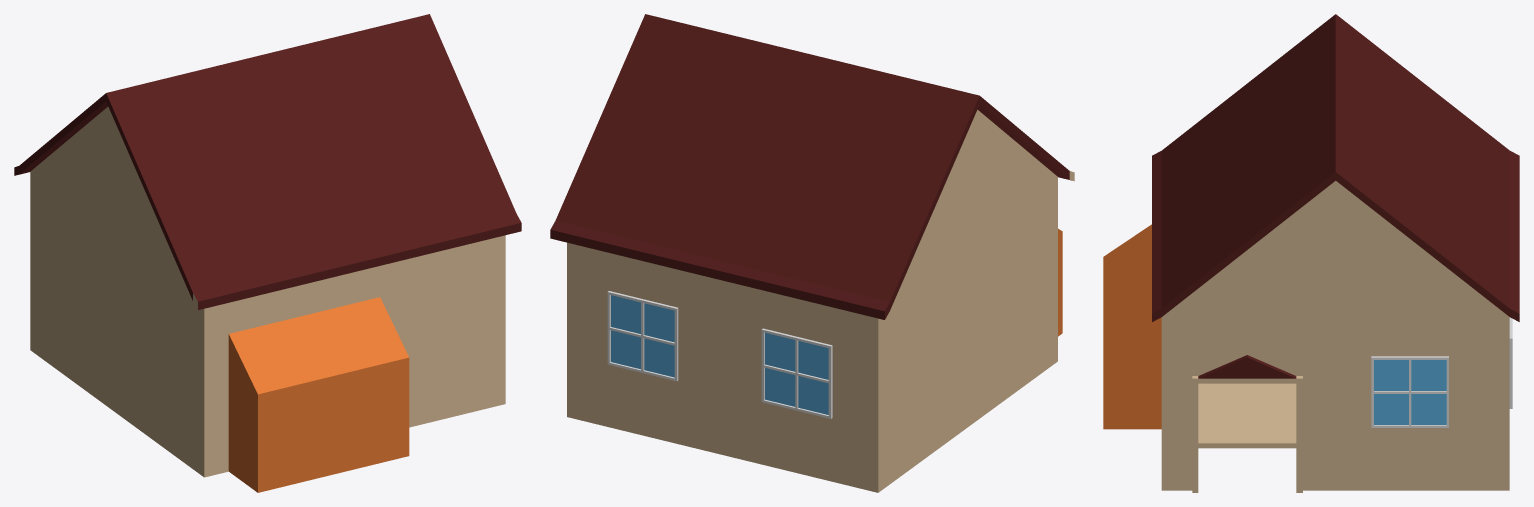
The model's file is house1.fbx.
The picture shows the model from 3 angles, left to right: view 1: azimuth 30°, elevation 25°; view 2: azimuth 150°, elevation 25°; view 3: azimuth 270°, elevation 25°; orthographic projection. The views are drawn at different scales.
Visible parts, largest first — view 1: Cube.002; view 2: Cube.002; view 3: Cube.002.
Boxes of the visible parts, x1=… form: Cube.002: x1=14, y1=14, x2=521, y2=492; Cube.002: x1=550, y1=14, x2=1074, y2=492; Cube.002: x1=1103, y1=14, x2=1519, y2=492.
Bounding box in the file's own units: 293 × 280 × 326.
